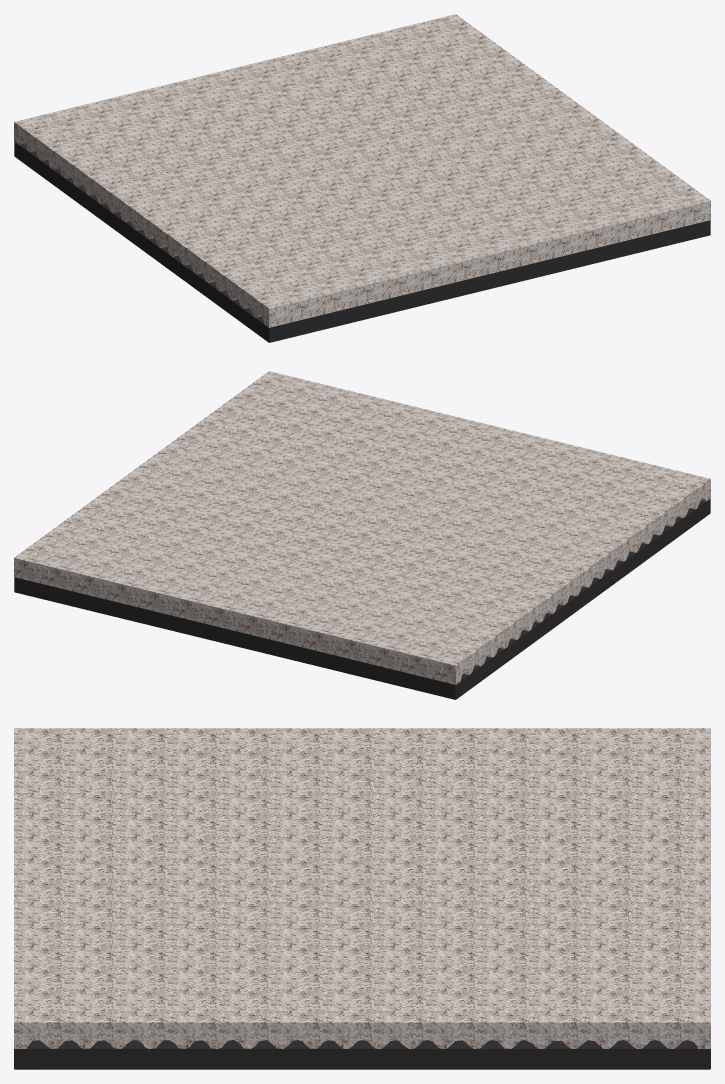
Rendered from shelter_a_roof_slab.glb.
3 views of the same model, one above another, from view 1: azimuth 30°, elevation 25°; view 2: azimuth 150°, elevation 25°; view 3: azimuth 270°, elevation 25° (orthographic). The views are drawn at different scales.
Visible parts, largest first — view 1: shelter_a_roof_slab; view 2: shelter_a_roof_slab; view 3: shelter_a_roof_slab.
Part boxes in pixels (x1,y1,x2,y2): shelter_a_roof_slab: (14, 14, 710, 342); shelter_a_roof_slab: (14, 371, 710, 699); shelter_a_roof_slab: (14, 728, 710, 1069).
Bounding box in the file's own units: 6 × 0.528 × 6.
Materials: 5 (4 with a texture image).
